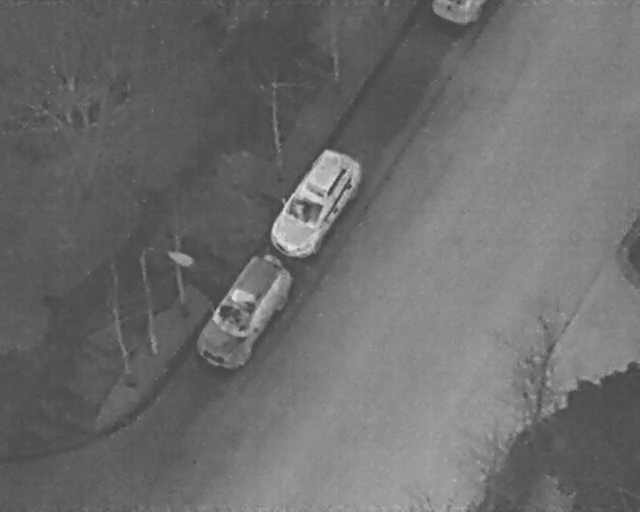Car: (186, 250, 299, 380), (258, 141, 372, 268)
